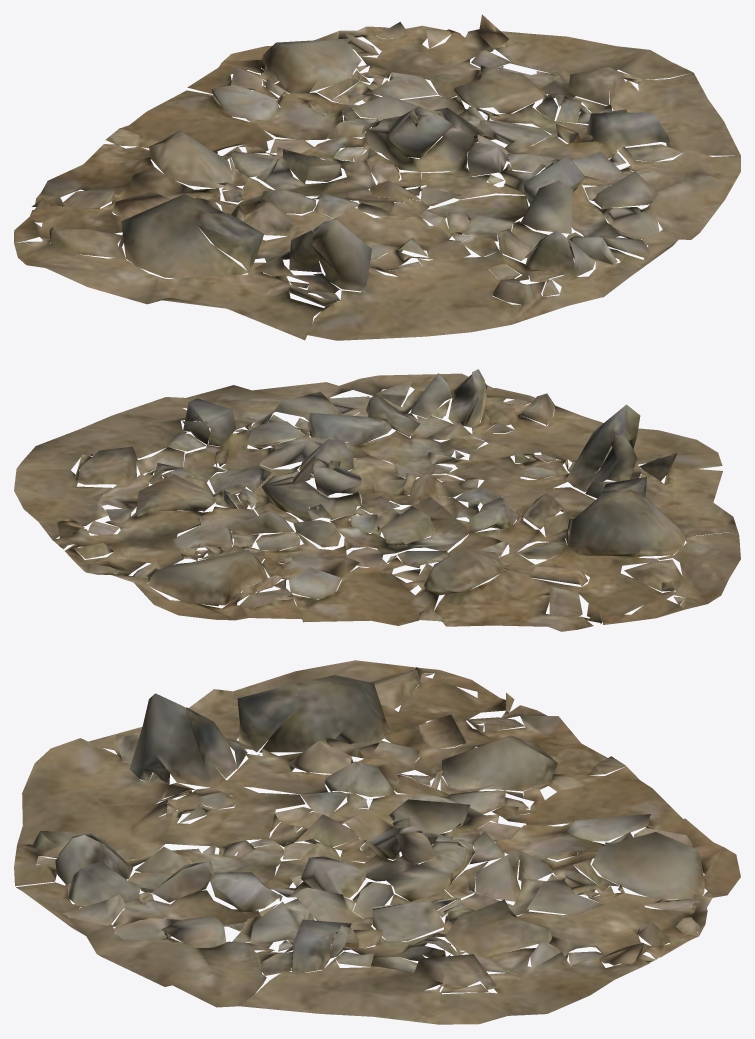
File: rock_small.glb
3 views of the same model, one above another, from view 1: azimuth 30°, elevation 25°; view 2: azimuth 150°, elevation 25°; view 3: azimuth 270°, elevation 25° (orthographic). The views are drawn at different scales.
Visible parts, largest first — view 1: sand_rocks_small_01_LOD0; view 2: sand_rocks_small_01_LOD0; view 3: sand_rocks_small_01_LOD0.
Part boxes in pixels (<box>): sand_rocks_small_01_LOD0: <box>14,14,740,340</box>; sand_rocks_small_01_LOD0: <box>14,369,740,631</box>; sand_rocks_small_01_LOD0: <box>14,660,740,1024</box>.
Size of the model in its own units: 4.63 by 0.5471 by 3.87.
1 material, 1 textured.
